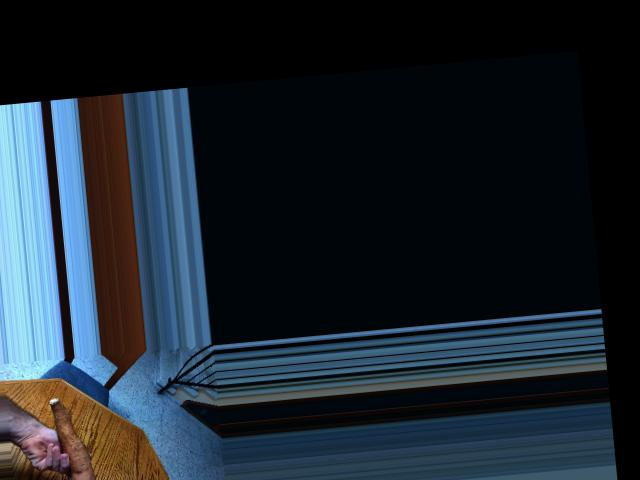sweet_potato: (44, 393, 99, 480)
